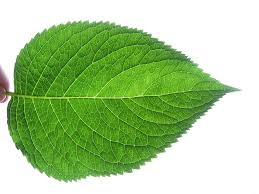leaf: (6, 21, 242, 178)
